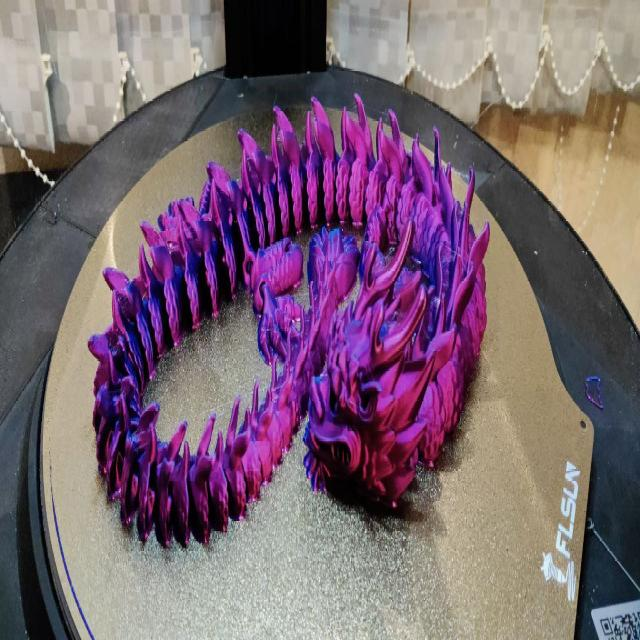Without deffect: (94, 83, 491, 591)
